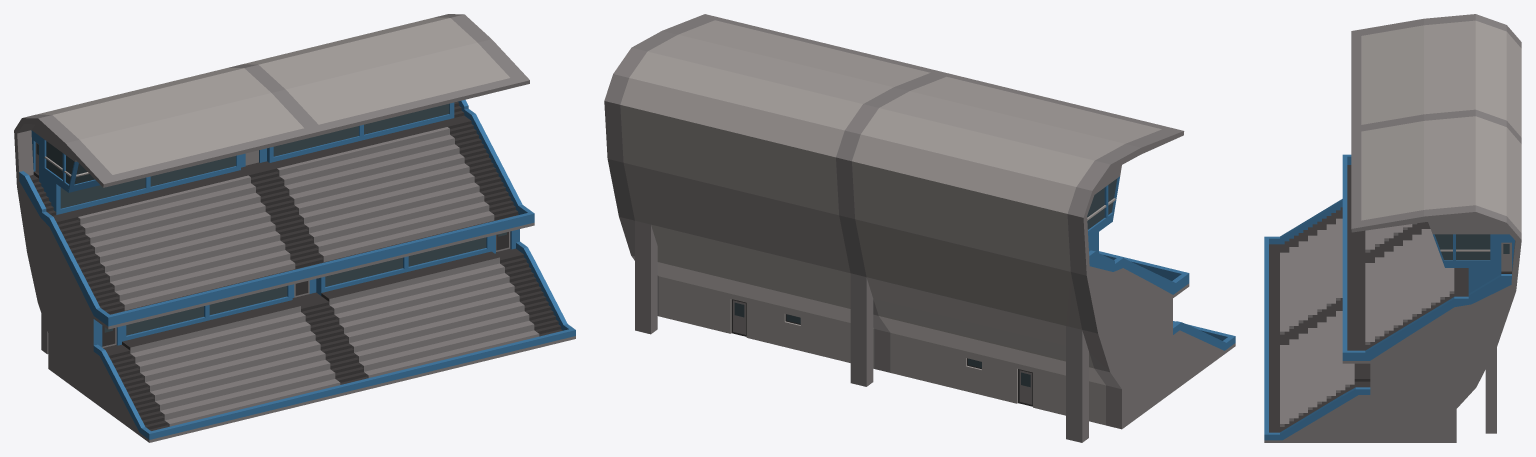
The model's file is racing_tribune-streight-double.fbx.
3 renders of one model, left to right at view 1: azimuth 30°, elevation 25°; view 2: azimuth 150°, elevation 25°; view 3: azimuth 270°, elevation 25°, orthographic. The views are drawn at different scales.
Visible parts, largest first — view 1: racing_tribune_streight_double; view 2: racing_tribune_streight_double; view 3: racing_tribune_streight_double.
Boxes of the visible parts, x1=… form: racing_tribune_streight_double: x1=14, y1=14, x2=575, y2=442; racing_tribune_streight_double: x1=604, y1=14, x2=1235, y2=442; racing_tribune_streight_double: x1=1264, y1=14, x2=1521, y2=442.
Size of the model in its own units: 200 by 109 by 110.
